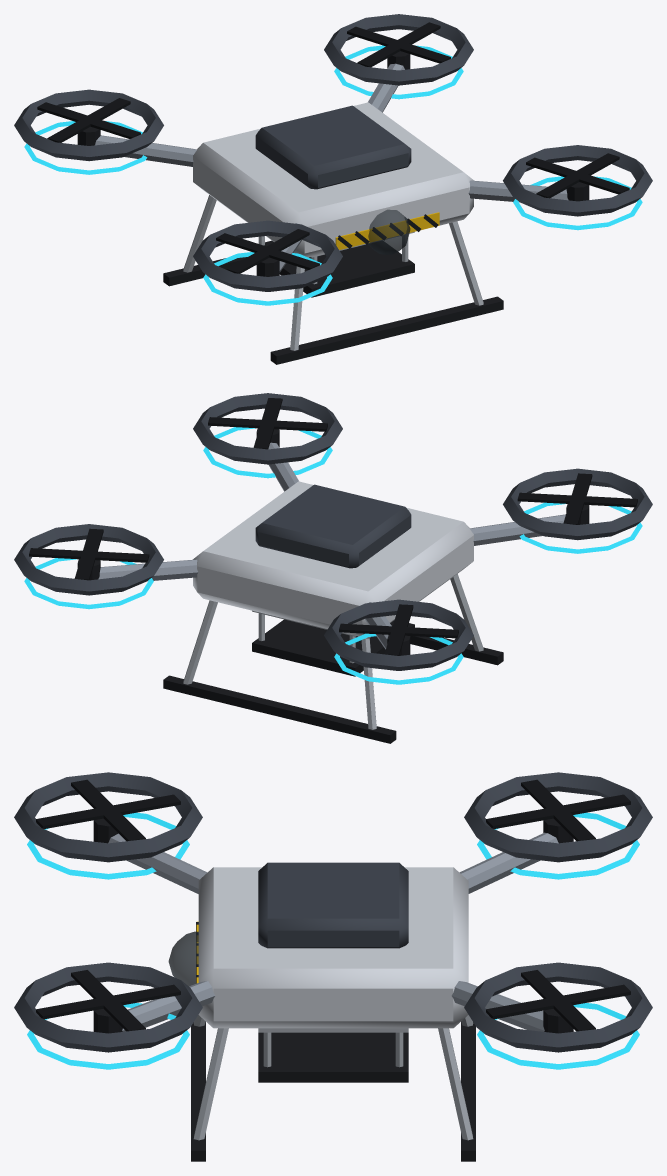
The model's file is loader_drone_lifter.glb.
The picture shows the model from 3 angles, top to bottom: view 1: azimuth 30°, elevation 25°; view 2: azimuth 150°, elevation 25°; view 3: azimuth 270°, elevation 25°; orthographic projection. The views are drawn at different scales.
Visible parts, largest first — view 1: loader_drone_lifter; view 2: loader_drone_lifter; view 3: loader_drone_lifter.
Part boxes in pixels (left/top/right/bottom): loader_drone_lifter: left=14, top=14, right=652, bottom=364; loader_drone_lifter: left=14, top=393, right=652, bottom=743; loader_drone_lifter: left=14, top=772, right=652, bottom=1161.
Bounding box in the file's own units: 2.13 × 0.74 × 2.13.
